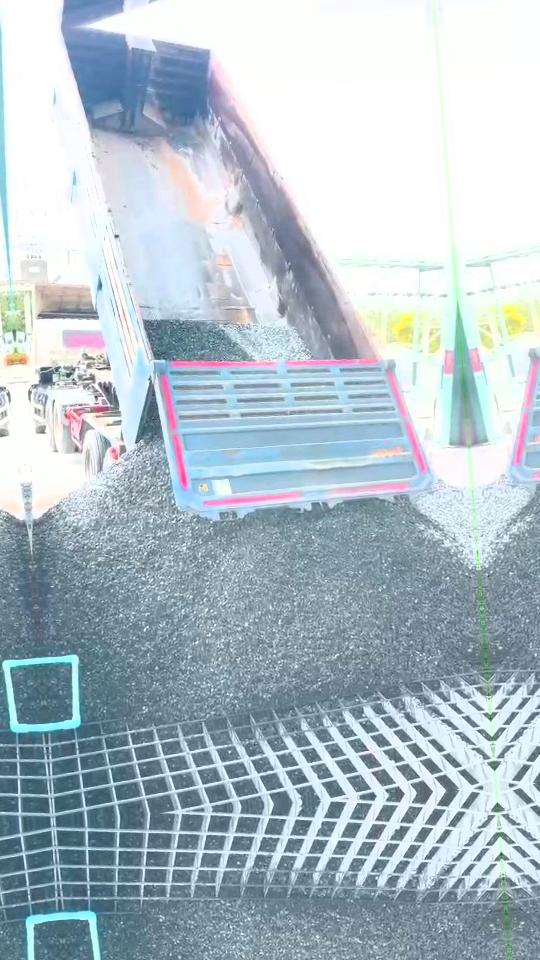gravel: (33, 425, 482, 720), (145, 319, 311, 361), (417, 480, 476, 566), (42, 681, 62, 719)
